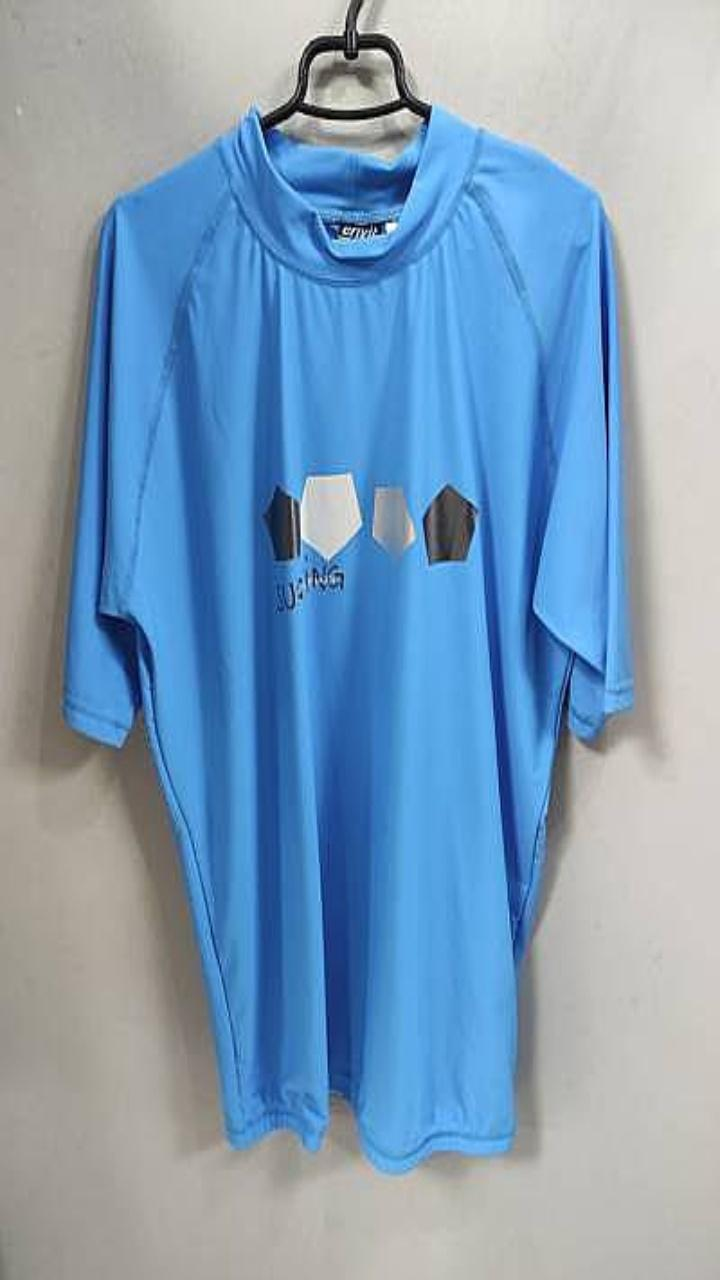T-Shirt: (63, 103, 632, 1172)
